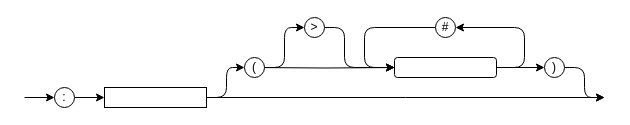
This 630x125 diagram has some shape labels left out. Each missing label, with the centre of its shape:
count: (155,97)
expression: (445,67)
